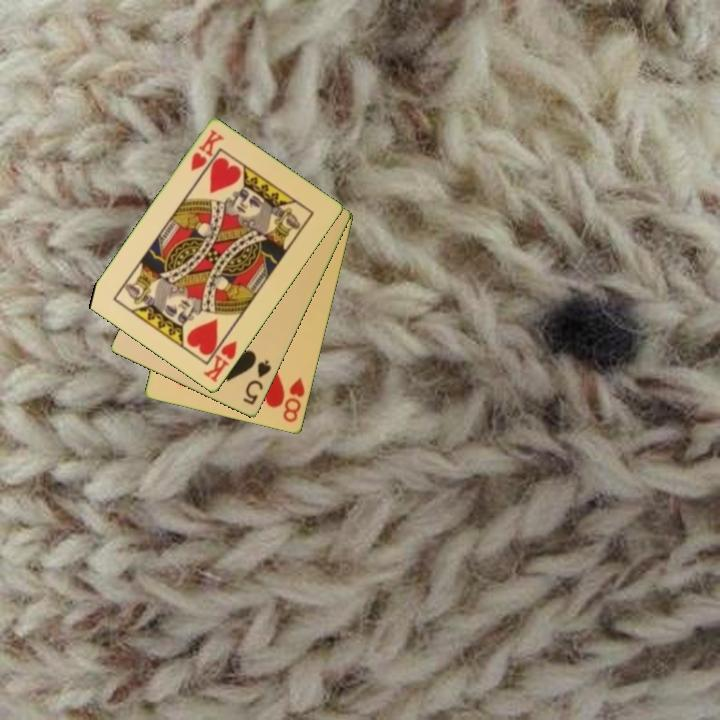5s: (240, 357, 274, 408)
8h: (280, 374, 308, 426)
Kh: (200, 330, 240, 386), (187, 126, 227, 174)
